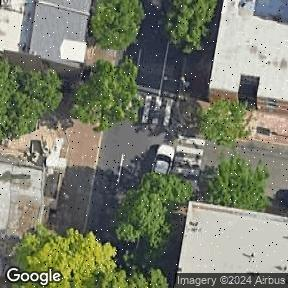vegetation: (17, 174, 193, 288), (0, 60, 63, 141), (74, 55, 138, 131), (205, 152, 277, 216), (192, 90, 256, 154)
